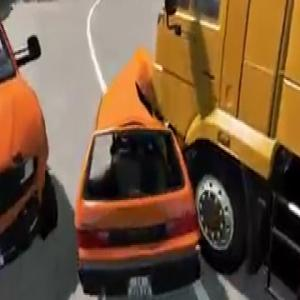serious: (65, 0, 300, 300)
